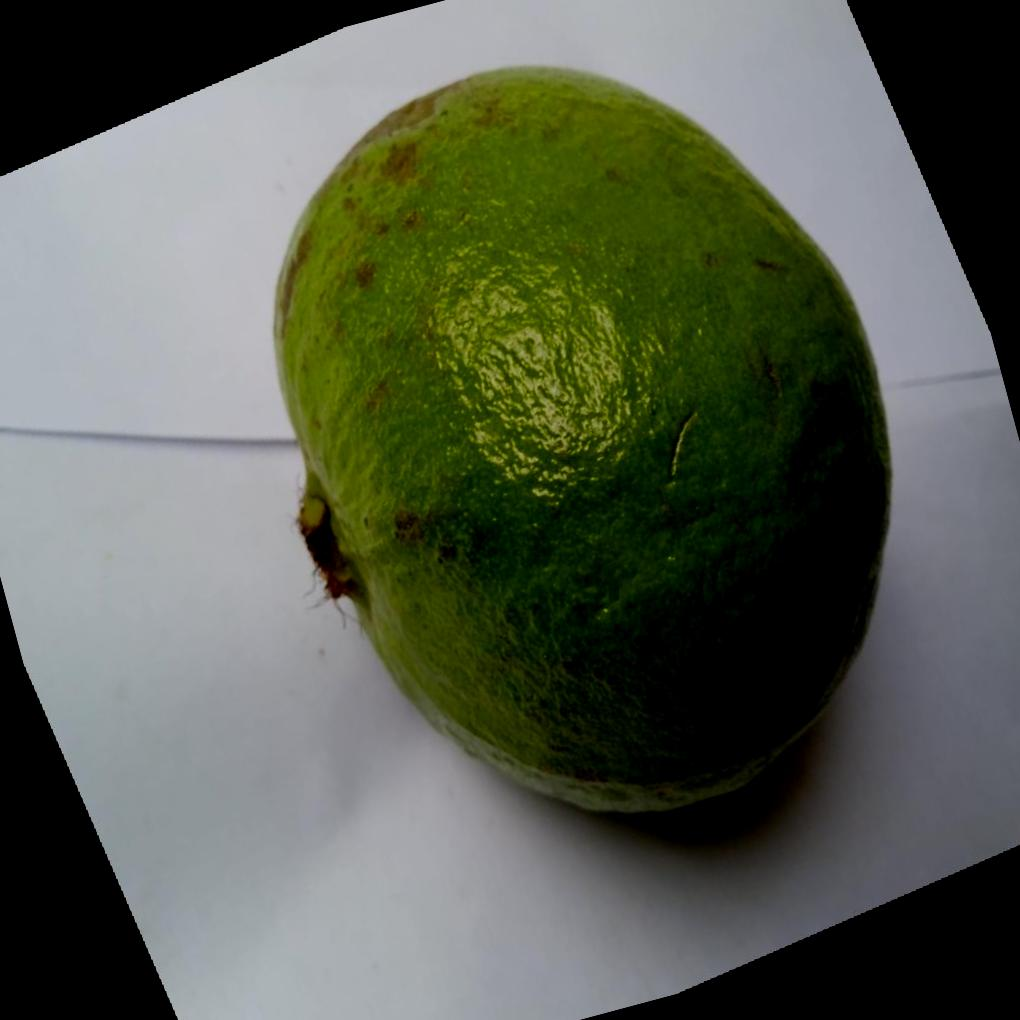FreshGuava: (270, 66, 894, 819)
